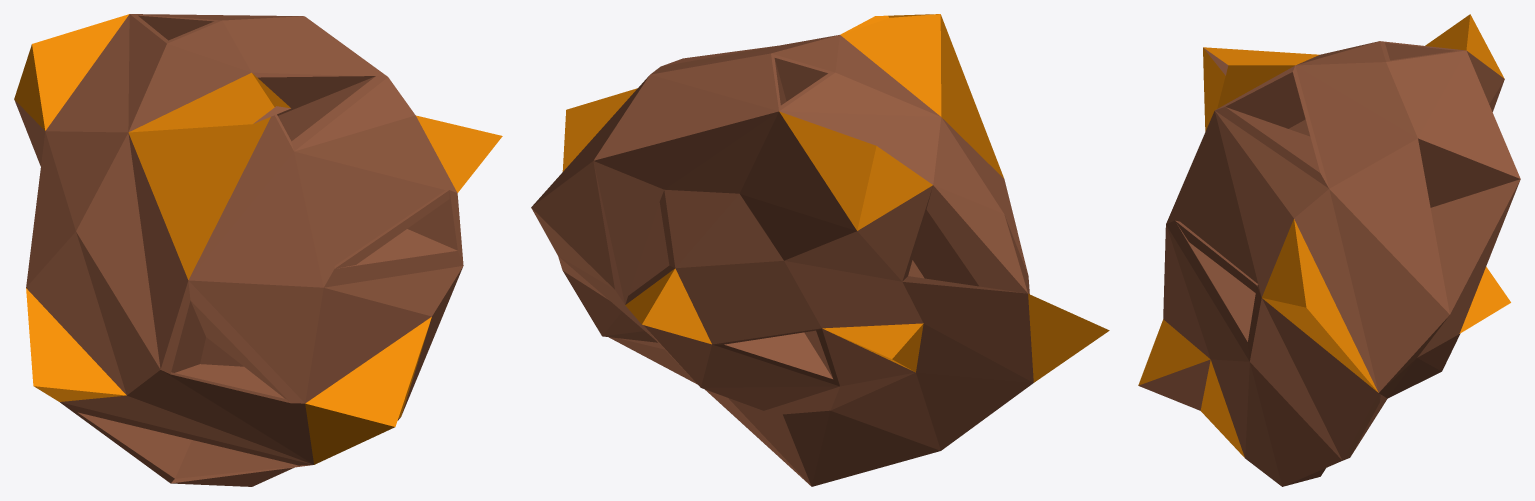
File: AsteroidCristal.glb
The picture shows the model from 3 angles, left to right: view 1: azimuth 30°, elevation 25°; view 2: azimuth 150°, elevation 25°; view 3: azimuth 270°, elevation 25°; orthographic projection. The views are drawn at different scales.
Parts seen in each view (by area): view 1: AsteroidCristal; view 2: AsteroidCristal; view 3: AsteroidCristal.
Boxes of the visible parts, box(x1,y1,x2,y2) form: AsteroidCristal: box(14, 14, 502, 486); AsteroidCristal: box(531, 14, 1109, 486); AsteroidCristal: box(1138, 14, 1520, 486).
Bounding box in the file's own units: 11.82 × 10.03 × 8.34.
1 material, 1 textured.
